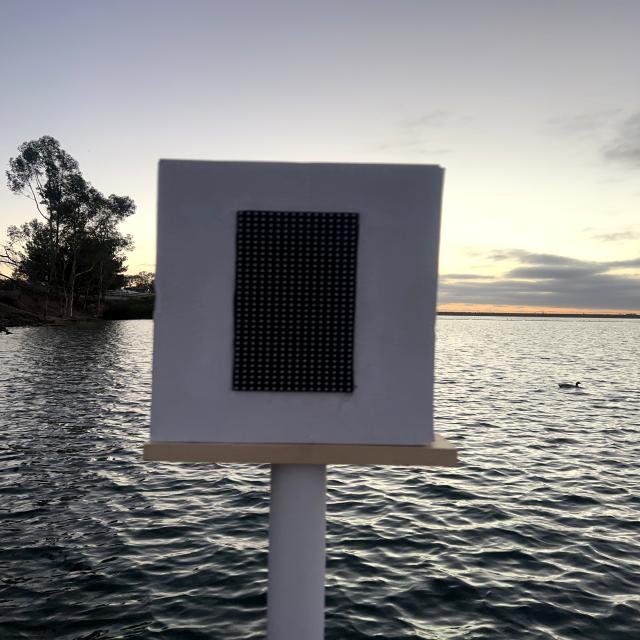led: (178, 184, 406, 433)
